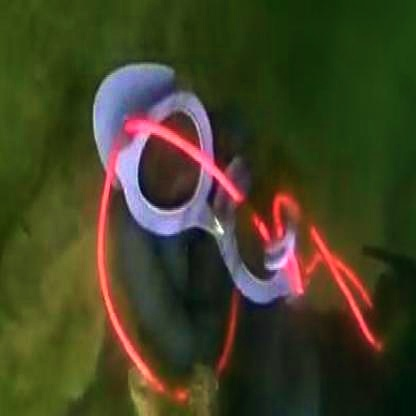sunglasses: (93, 56, 357, 366)
